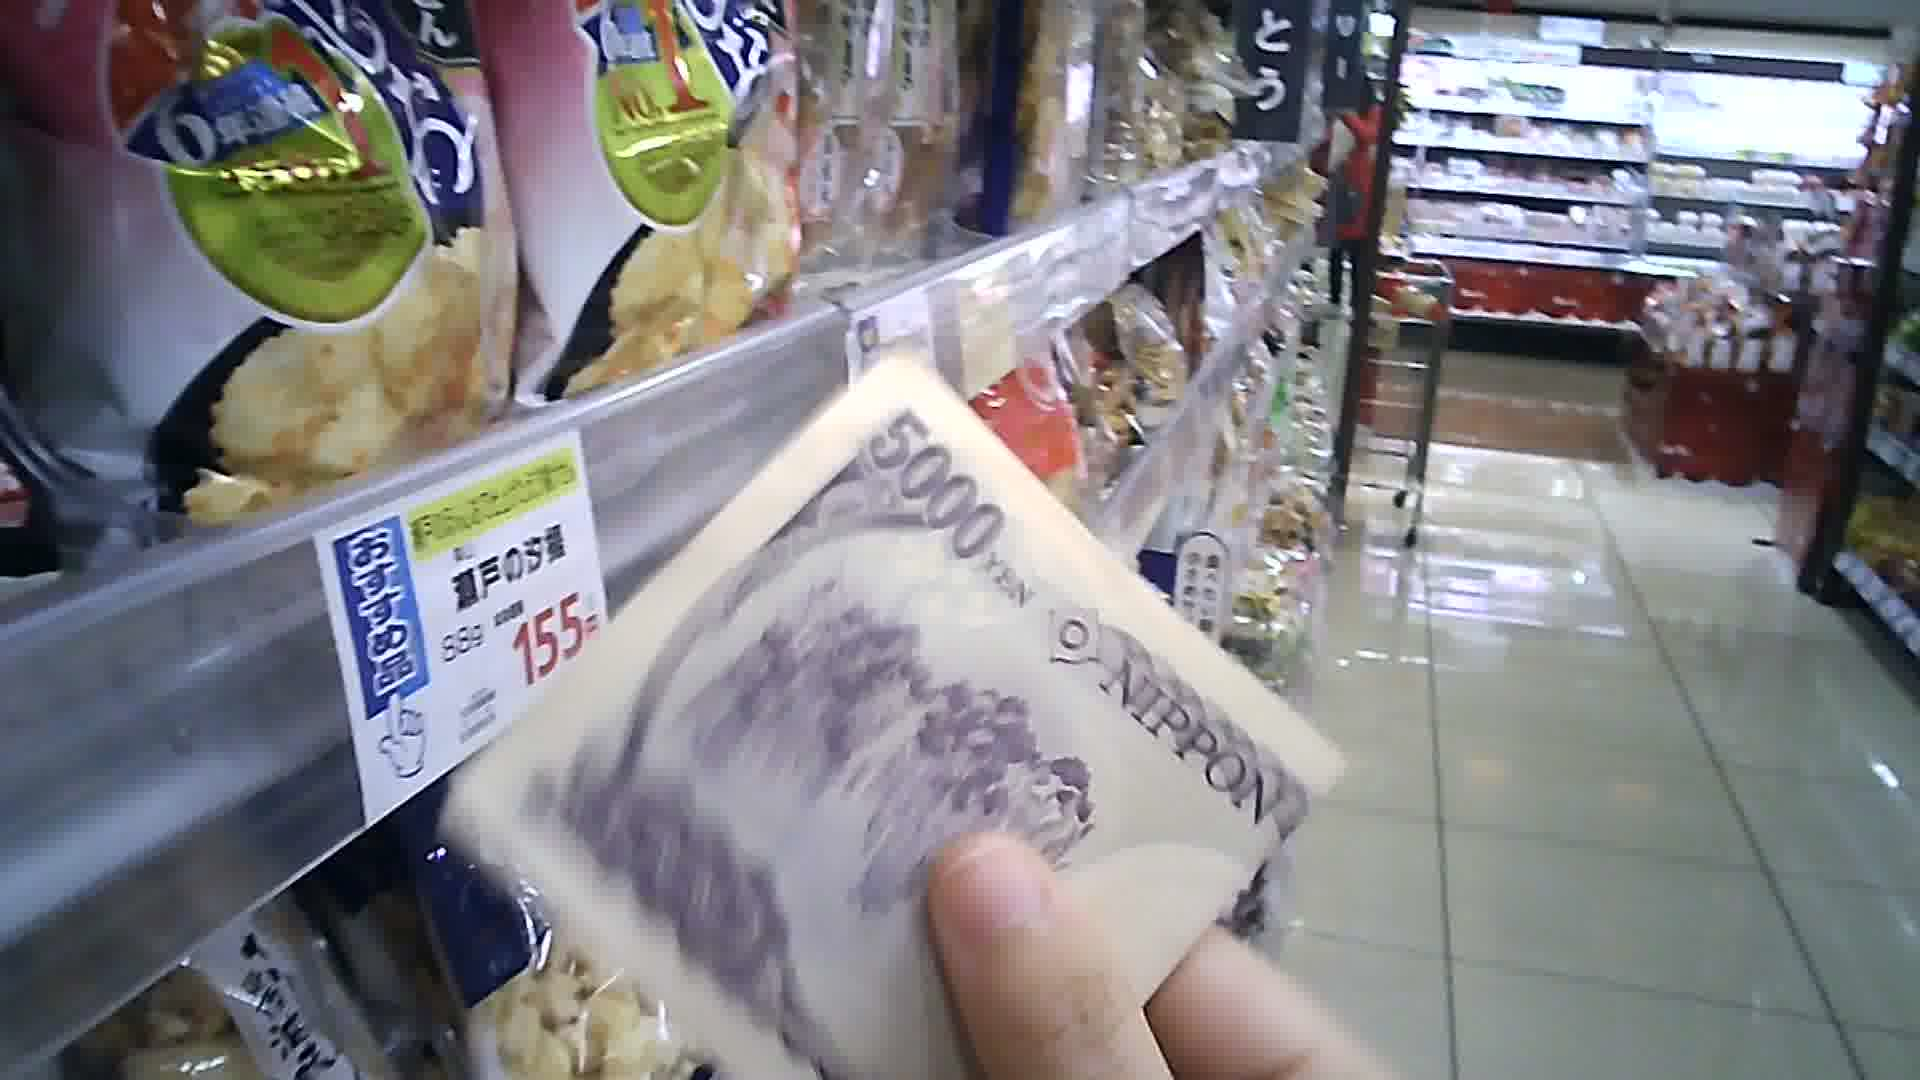5,000 Yen: (469, 332, 1354, 1079)
